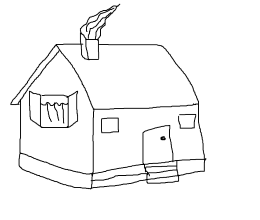door: (136, 120, 177, 168)
open_window: (27, 87, 80, 135), (98, 113, 123, 140), (174, 109, 199, 131)
roof: (7, 38, 208, 112)
smoking_chimney: (75, 2, 127, 68)
wall: (86, 101, 209, 193)
